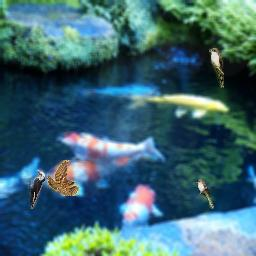Cuckoo: (209, 48, 224, 88), (196, 179, 214, 209)
Sparrow: (47, 160, 79, 196)
Woodpecker: (27, 169, 45, 209)
